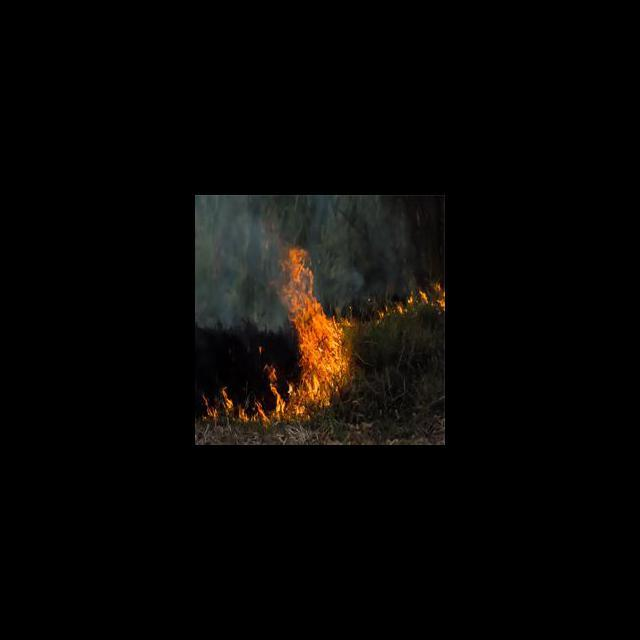Fire: (200, 246, 350, 424), (373, 274, 444, 322)
